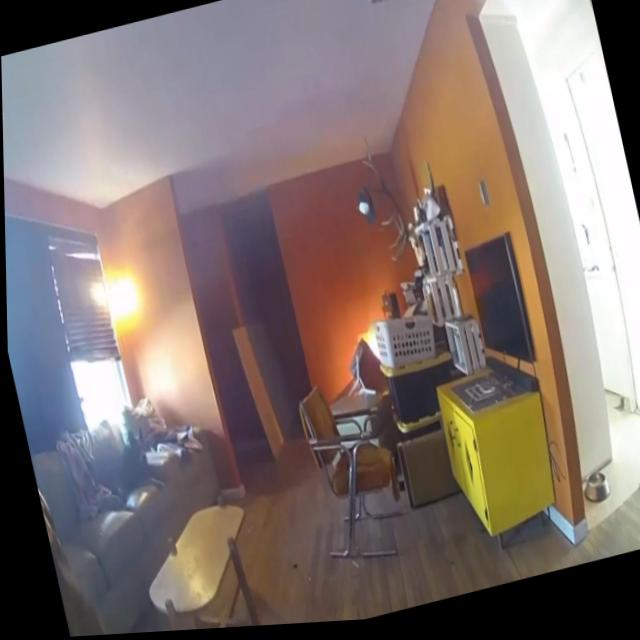fire: (347, 307, 393, 375)
